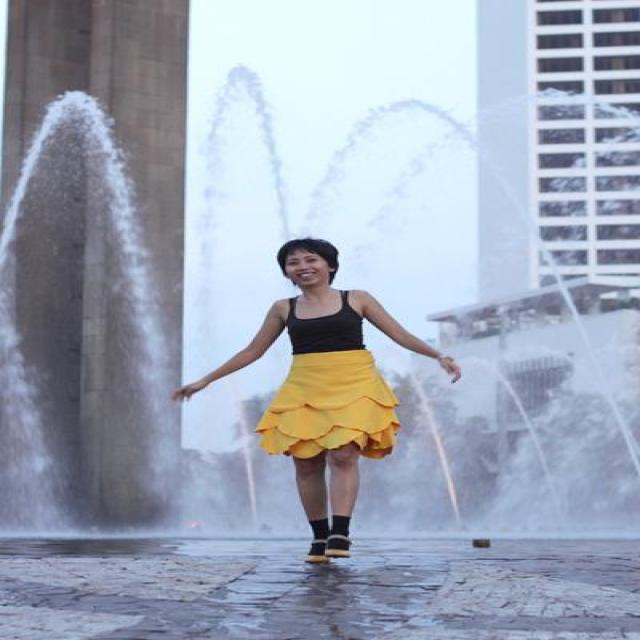shirt: (288, 295, 365, 354)
skirt: (256, 350, 398, 457)
